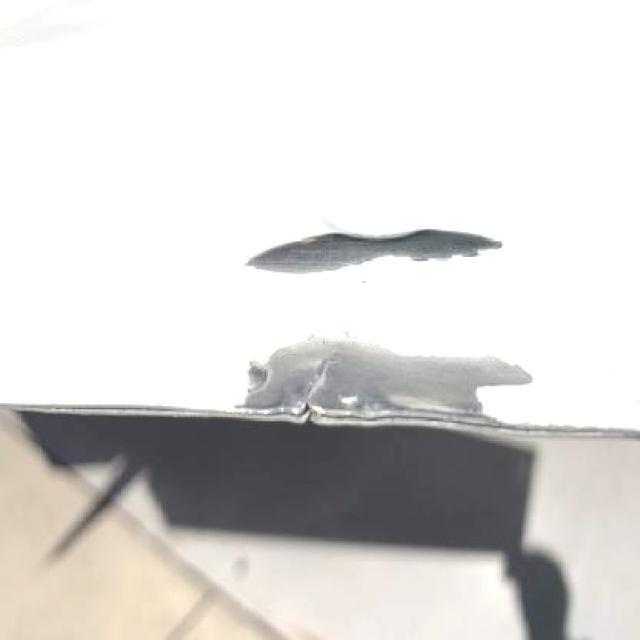crack: (294, 354, 352, 412)
